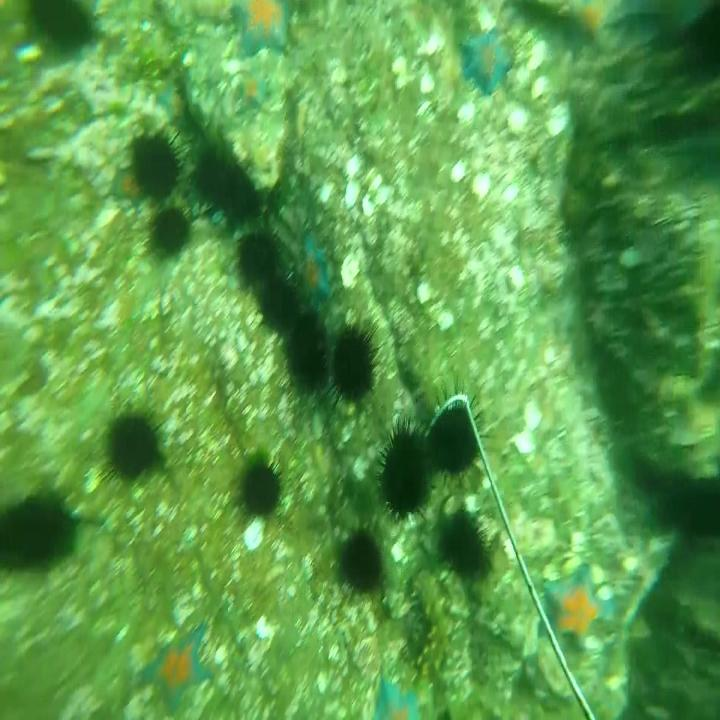echinus: (0, 490, 81, 578), (426, 372, 486, 485), (375, 415, 433, 525), (94, 409, 165, 492), (329, 317, 384, 408), (127, 124, 187, 206), (437, 503, 493, 583), (337, 519, 388, 605), (236, 448, 288, 527), (26, 0, 100, 55), (286, 308, 332, 394), (236, 226, 278, 292), (261, 268, 302, 333), (149, 199, 192, 259), (223, 163, 260, 227), (195, 143, 231, 208)
holothurian: (409, 562, 453, 688)
starfish: (138, 618, 218, 720), (540, 553, 616, 659), (226, 2, 296, 65), (457, 27, 516, 98), (296, 230, 336, 313), (371, 674, 423, 720), (235, 65, 272, 117)
